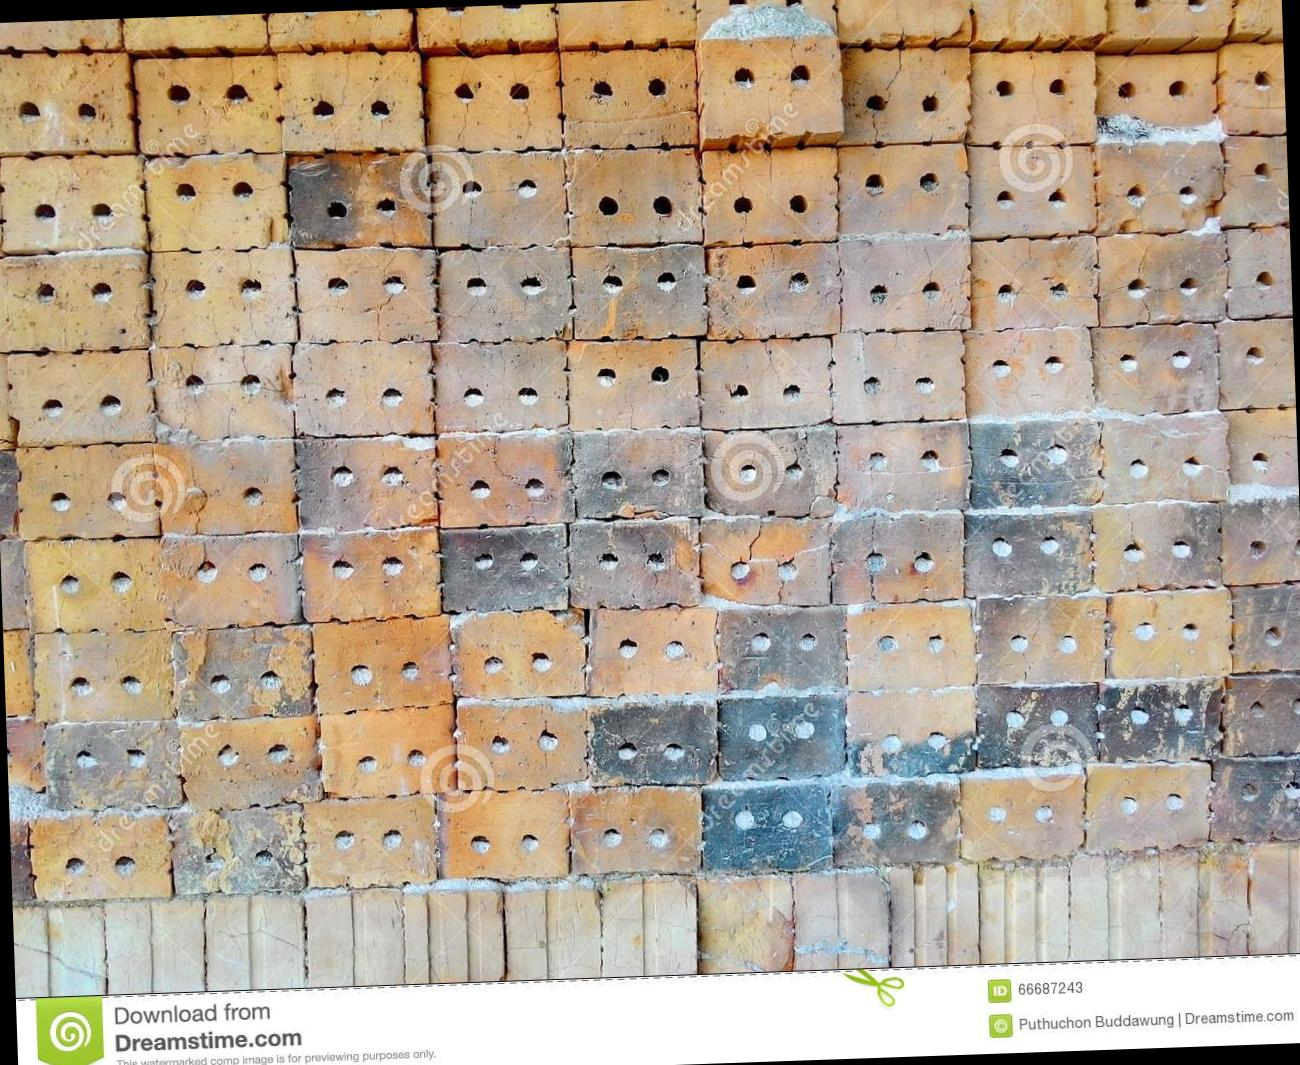brick: (276, 48, 426, 156), (1, 247, 150, 352), (149, 245, 298, 349), (699, 35, 843, 138), (0, 152, 149, 253), (135, 54, 280, 156), (0, 50, 135, 158), (295, 244, 441, 343), (153, 435, 296, 536), (293, 339, 436, 439), (8, 349, 155, 445), (565, 144, 703, 246), (288, 151, 432, 250), (160, 530, 301, 630), (560, 48, 699, 149), (431, 148, 570, 248), (312, 614, 452, 713), (17, 442, 159, 540), (145, 153, 287, 251), (702, 147, 840, 246), (839, 232, 974, 334), (296, 434, 438, 530), (179, 715, 325, 809), (24, 537, 163, 635), (153, 343, 294, 441), (426, 53, 561, 153), (300, 526, 441, 622), (437, 431, 575, 528), (173, 625, 313, 720), (438, 244, 572, 343), (33, 629, 175, 723), (571, 242, 706, 340), (29, 809, 172, 902), (706, 243, 843, 339), (43, 717, 182, 811), (830, 510, 966, 606), (842, 44, 972, 145), (587, 692, 720, 790), (829, 329, 966, 423), (836, 420, 973, 514), (967, 48, 1097, 147), (1094, 138, 1225, 235), (433, 338, 569, 432), (321, 703, 457, 797), (1097, 230, 1230, 326), (571, 426, 705, 521), (436, 787, 570, 882), (304, 793, 438, 888), (450, 607, 587, 699), (705, 424, 839, 518), (568, 517, 702, 611), (701, 782, 835, 876), (569, 783, 704, 876), (1092, 321, 1220, 418), (700, 337, 832, 431), (456, 698, 588, 792), (583, 605, 719, 696), (837, 143, 970, 235), (844, 686, 977, 779), (970, 234, 1099, 329), (702, 513, 831, 608), (969, 418, 1103, 509), (967, 143, 1096, 238), (1093, 500, 1223, 593), (568, 337, 699, 429), (976, 594, 1107, 686), (171, 807, 304, 895), (1100, 414, 1232, 503), (962, 327, 1095, 416), (845, 601, 977, 689), (831, 779, 963, 867), (441, 523, 569, 614), (964, 509, 1094, 598), (1105, 589, 1234, 678), (958, 770, 1087, 860), (1086, 760, 1213, 852), (716, 604, 849, 689), (718, 693, 847, 781), (975, 680, 1099, 768), (1098, 676, 1223, 761), (306, 886, 405, 987), (793, 868, 891, 971), (600, 875, 699, 976), (205, 892, 306, 990), (404, 887, 504, 984), (1095, 51, 1219, 129), (979, 860, 1072, 963), (1070, 855, 1162, 960), (699, 875, 796, 973), (106, 901, 206, 995), (889, 863, 979, 967), (1159, 851, 1247, 957), (505, 887, 601, 980), (13, 904, 106, 997), (1207, 753, 1300, 842), (1219, 493, 1300, 585), (1218, 318, 1296, 409), (1221, 673, 1300, 756), (1220, 134, 1290, 227), (1219, 40, 1286, 136), (1225, 226, 1294, 318), (1230, 585, 1300, 672), (1247, 841, 1300, 953), (1228, 407, 1299, 488), (1103, 0, 1234, 41)
